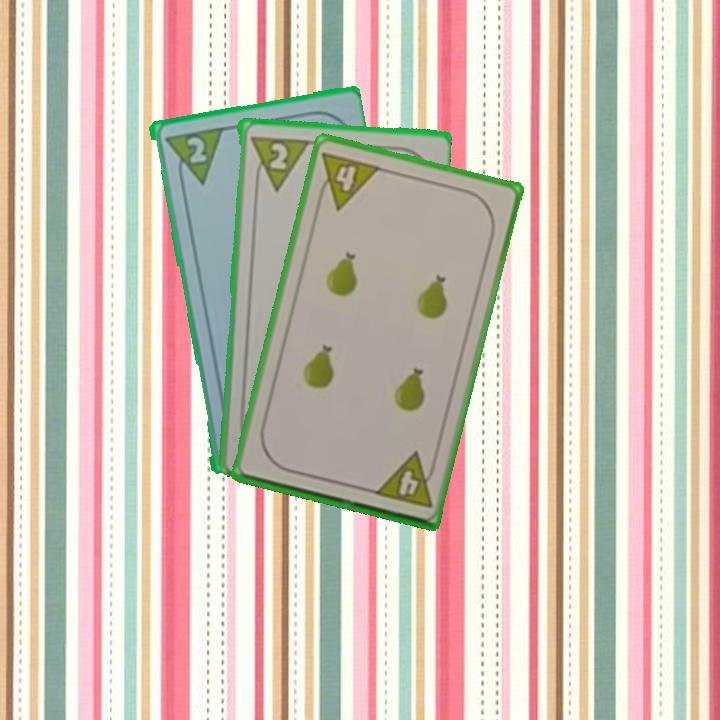2p: (246, 132, 309, 193), (182, 132, 209, 166)
4p: (312, 148, 383, 213), (370, 449, 440, 511)
